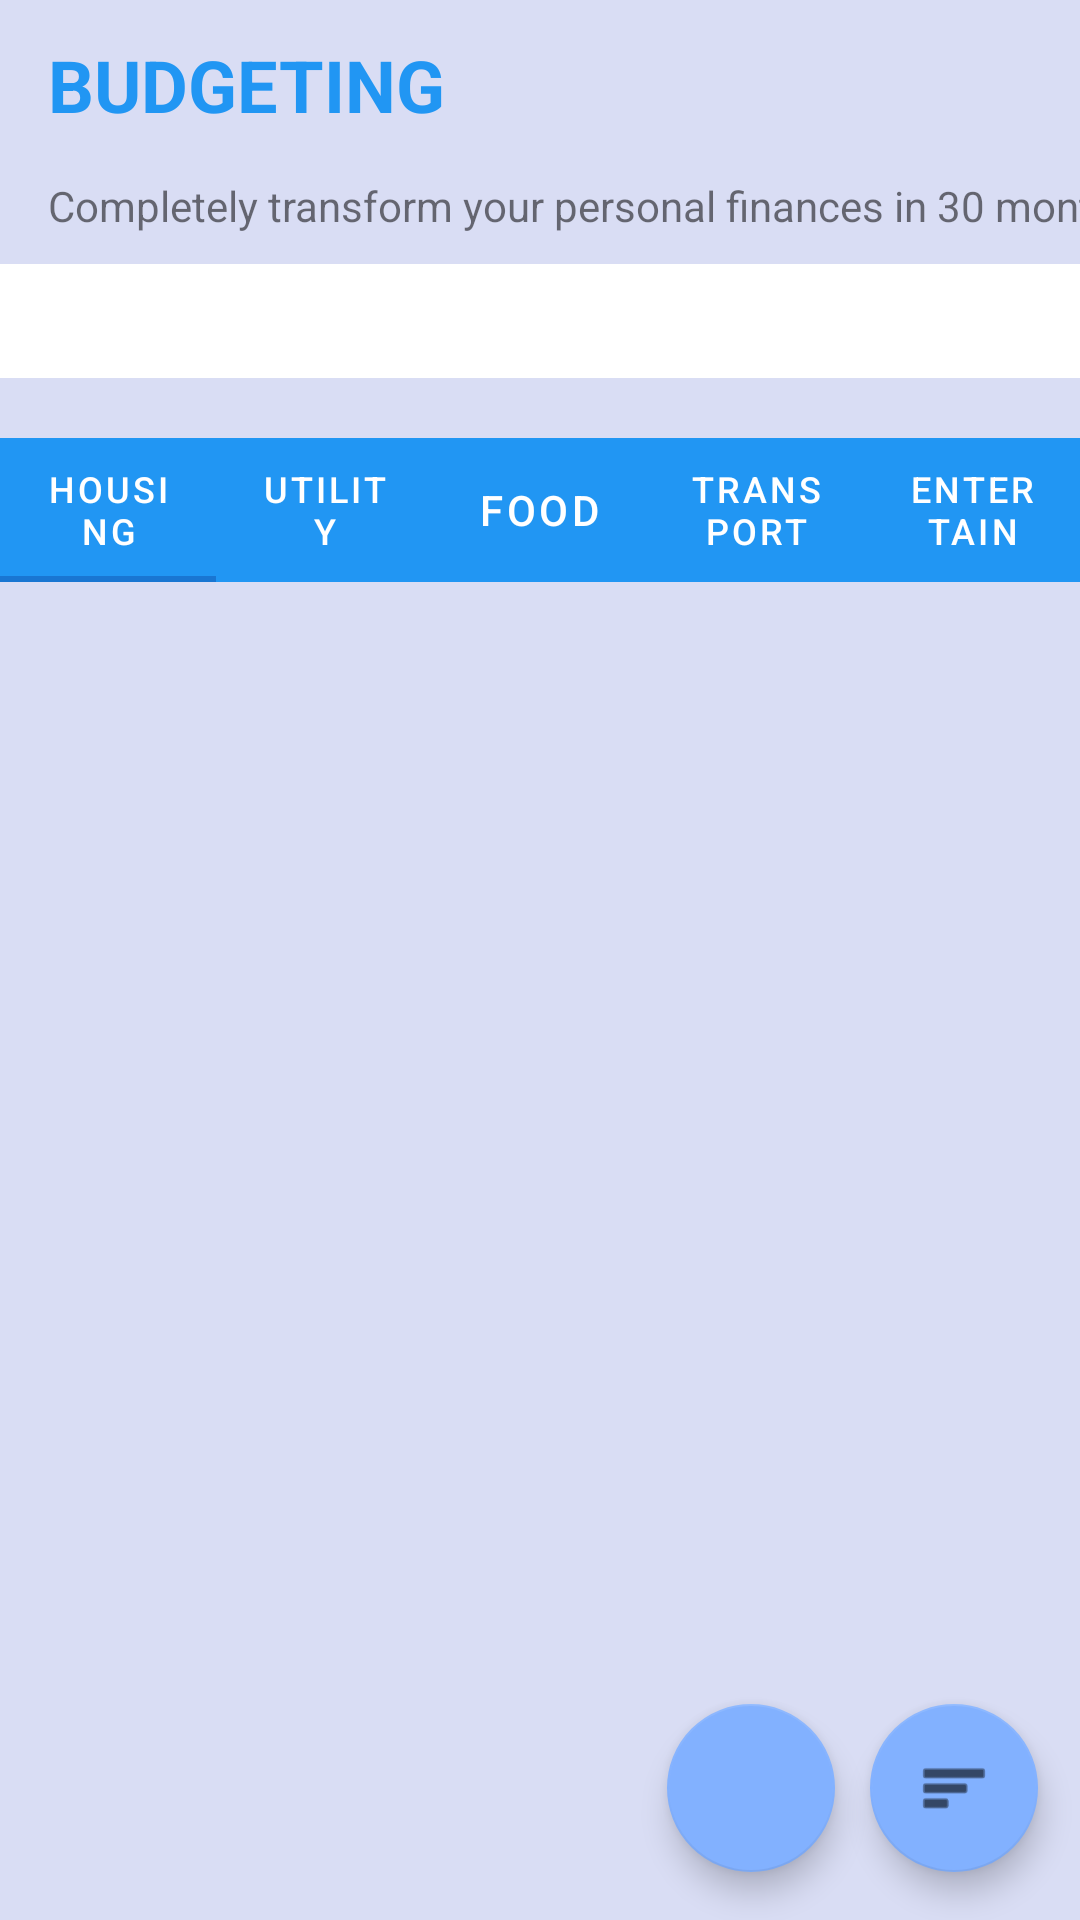

Point at icon controls on the screen. Image size 1080 x 1920, points as [x,y].
sort by size: [954,1788]
